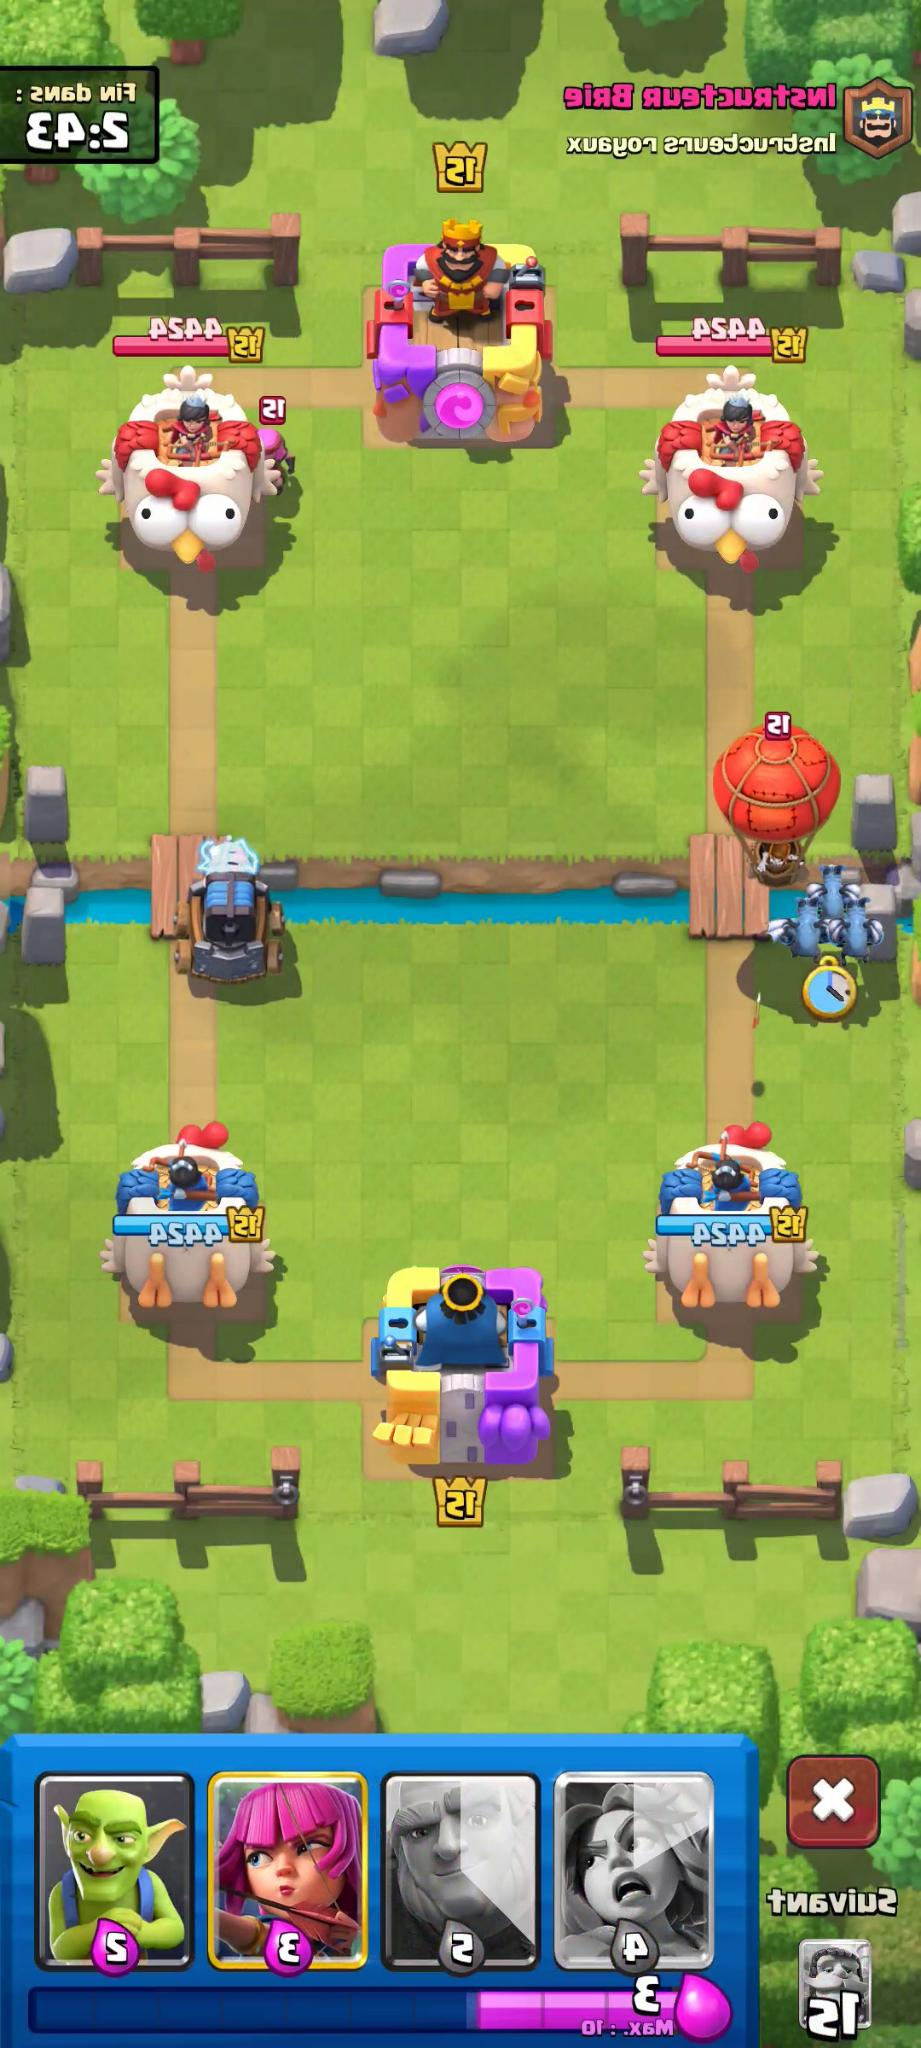gargouille: (801, 844, 857, 926), (775, 893, 833, 968), (837, 897, 883, 967)
zappy: (148, 827, 295, 995)
